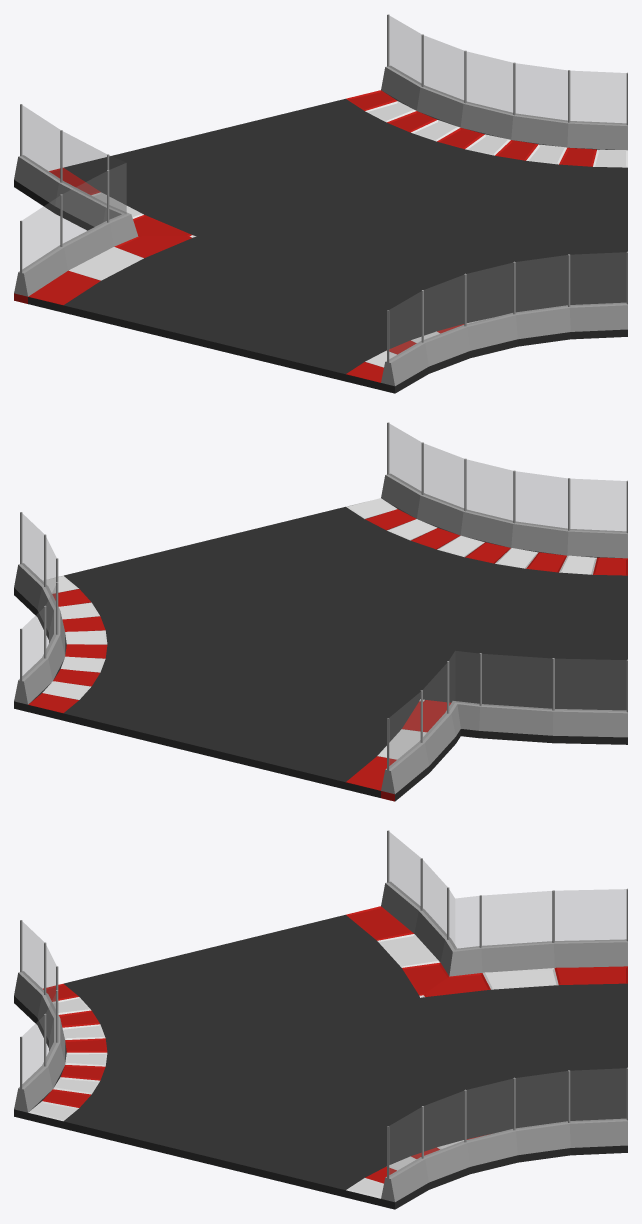
File: track_join_borders_low.glb
The picture shows the model from 3 angles, top to bottom: view 1: azimuth 30°, elevation 25°; view 2: azimuth 150°, elevation 25°; view 3: azimuth 270°, elevation 25°; orthographic projection.
Parts seen in each view (by area): view 1: Join.002; view 2: Join.002; view 3: Join.002.
Boxes of the visible parts, <box> form: Join.002: <box>14,14,627,393</box>; Join.002: <box>14,422,627,801</box>; Join.002: <box>14,830,627,1209</box>.
Size of the model in its own units: 17.4 by 2.2 by 15.07.
